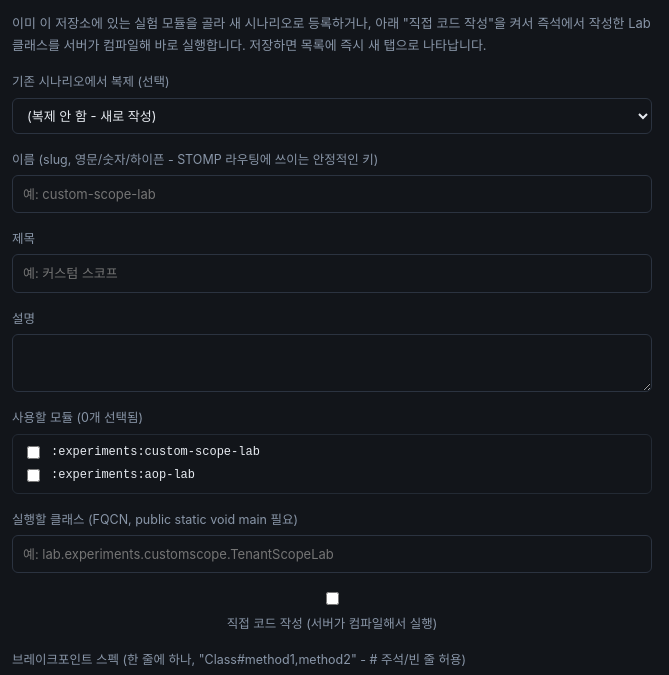
Scenario: NewScenarioForm › fills the form from an existing scenario when cloned
Step 1. Select "커스텀 스코프" in the dropdown labelled "기존 시나리오에서 복제 (선택)" → (332, 116), box [12, 98, 652, 134]
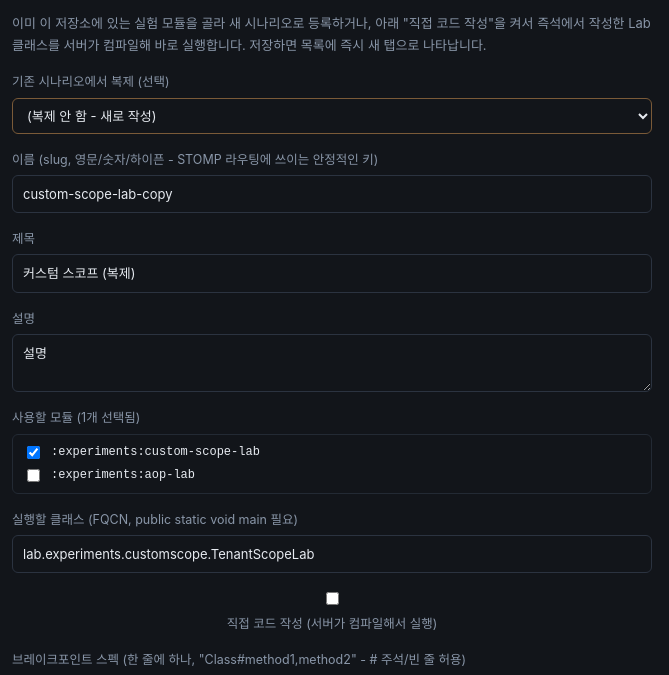
Expected: the field with placeholder "예: custom-scope-lab" holds "custom-scope-lab-copy", [12, 175, 652, 213]
Expected: the field with placeholder "예: 커스텀 스코프" holds "커스텀 스코프 (복제)", [12, 254, 652, 293]
